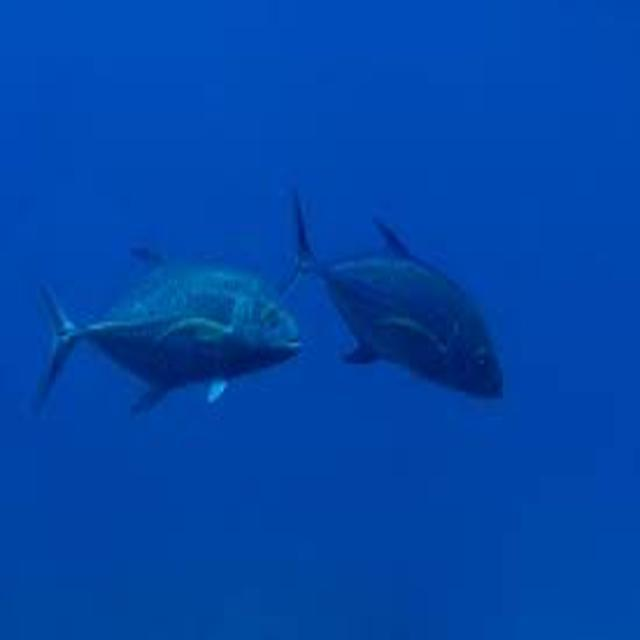fish: (290, 194, 507, 402), (39, 246, 304, 414)
